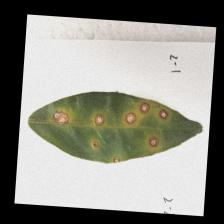canker: (44, 102, 170, 148)
